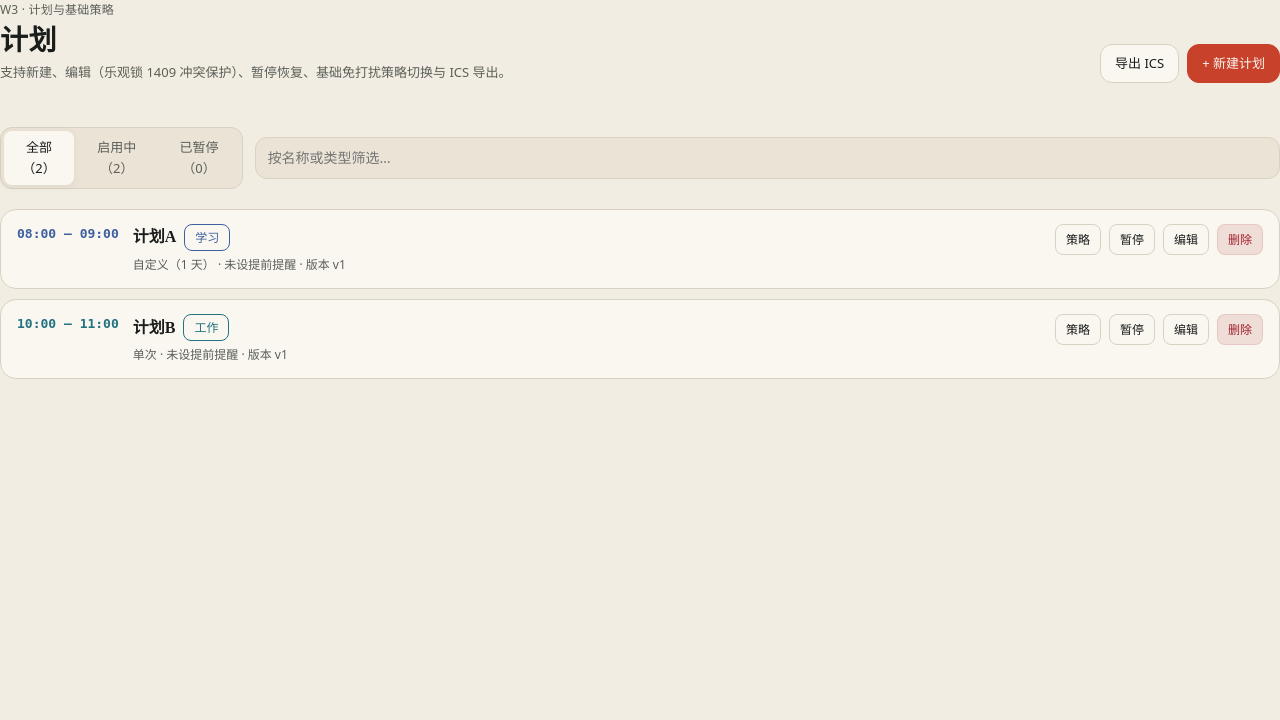
Test: Core views: XSS neutralization, 1409 conflict reload/merge, and B5 trust copy › isolates strategy modal per planId+requestSeq so delayed Plan A GET/1409 cannot pollute Plan B (R3)
Later steps or results of the test are not shown.
Click the button "策略" in the row of "学习" at (1078, 239), box [1055,224,1101,255]
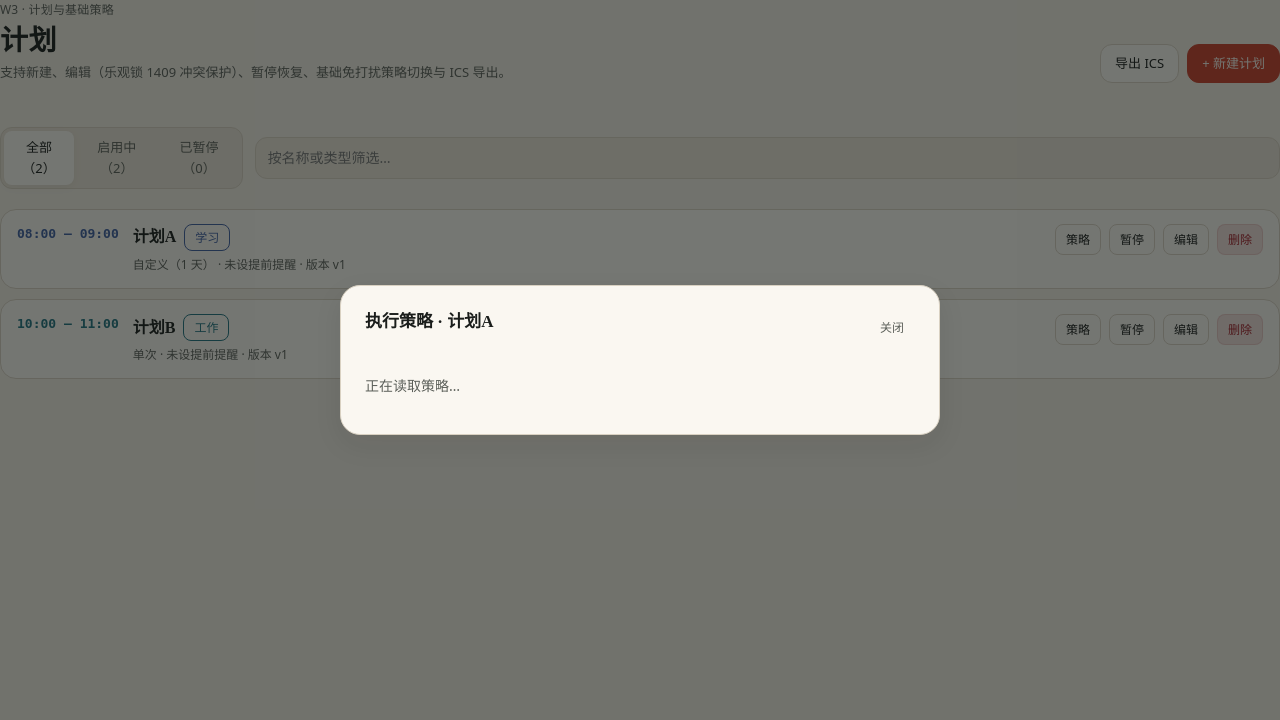
Click the button "关闭" at (892, 328), box [869,312,915,343]
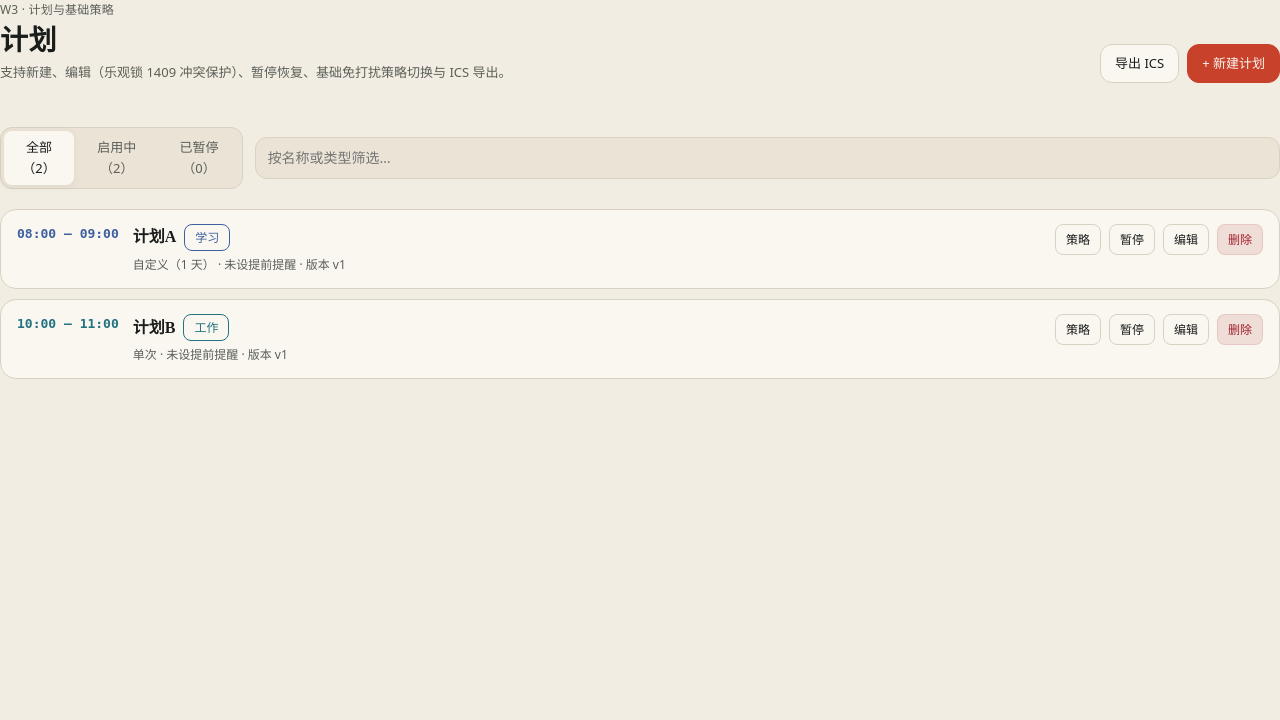
Click the button "策略" in the row of "工作" at (1078, 330), box [1055,314,1101,345]
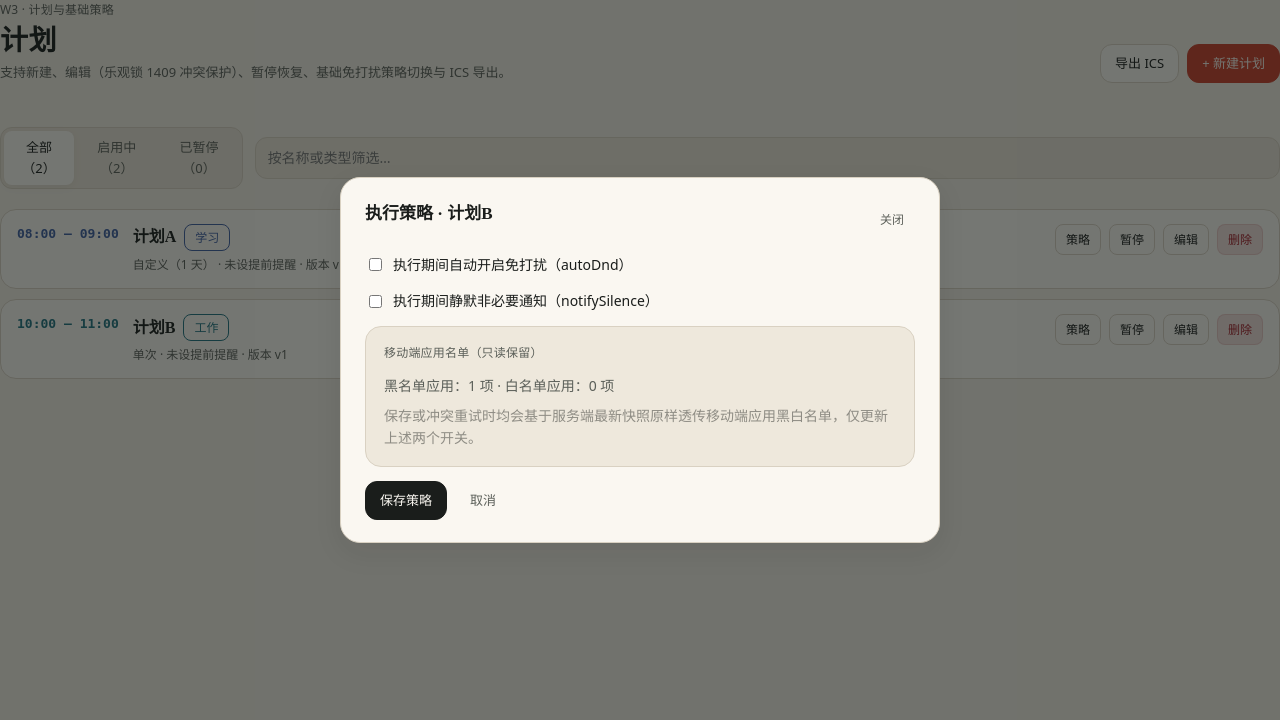
Expected: the text "执行策略 · 计划B" is shown, [365,200,492,228]
Expected: the text "黑名单应用：1 项" is shown, [384,376,614,395]
Click the checkbox labelled "执行期间自动开启免打扰（autoDnd）" at (376, 265), box [369,258,382,271]
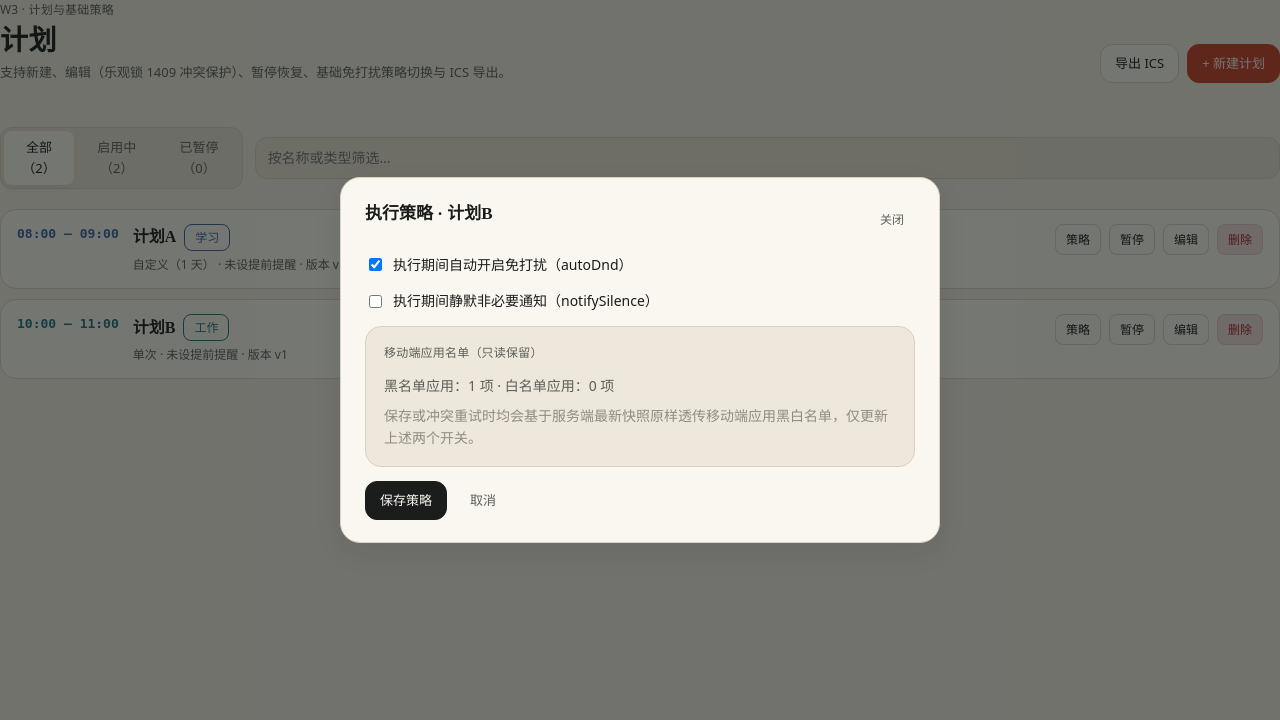
Click the button "保存策略" at (406, 500), box [365,481,447,520]
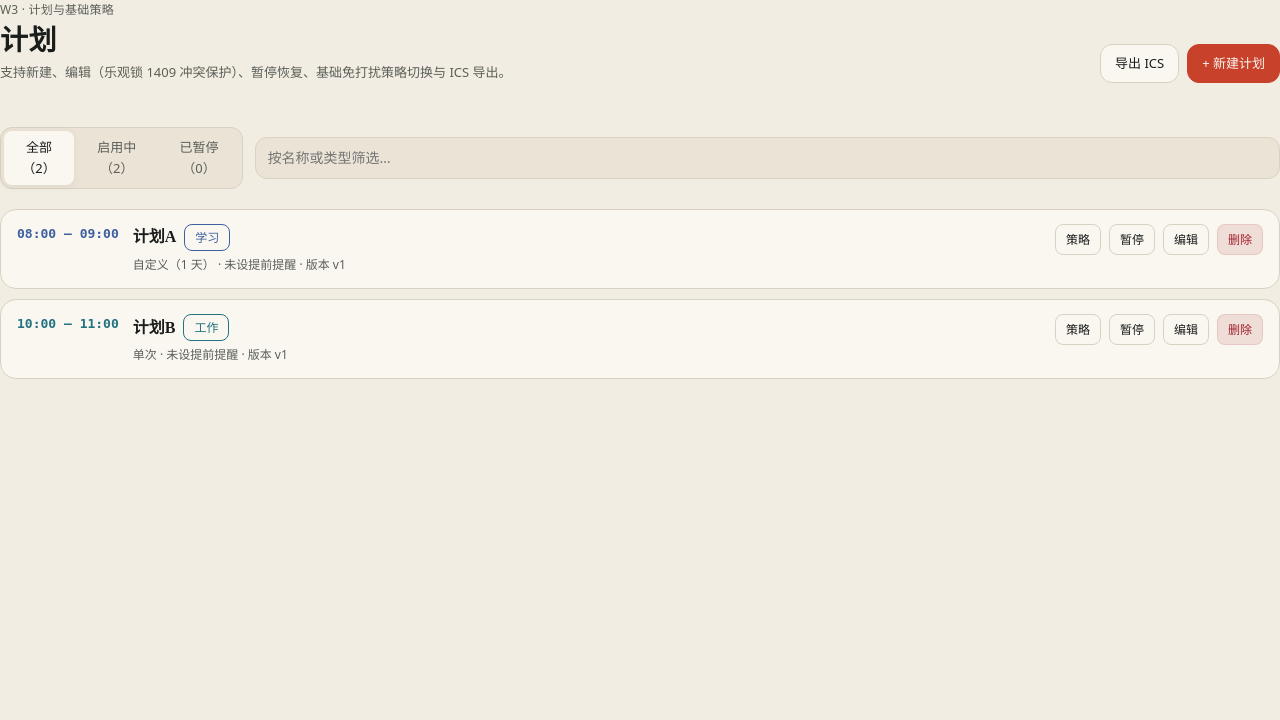
Click the button "编辑" in the row of "学习" at (1186, 239), box [1163,224,1209,255]
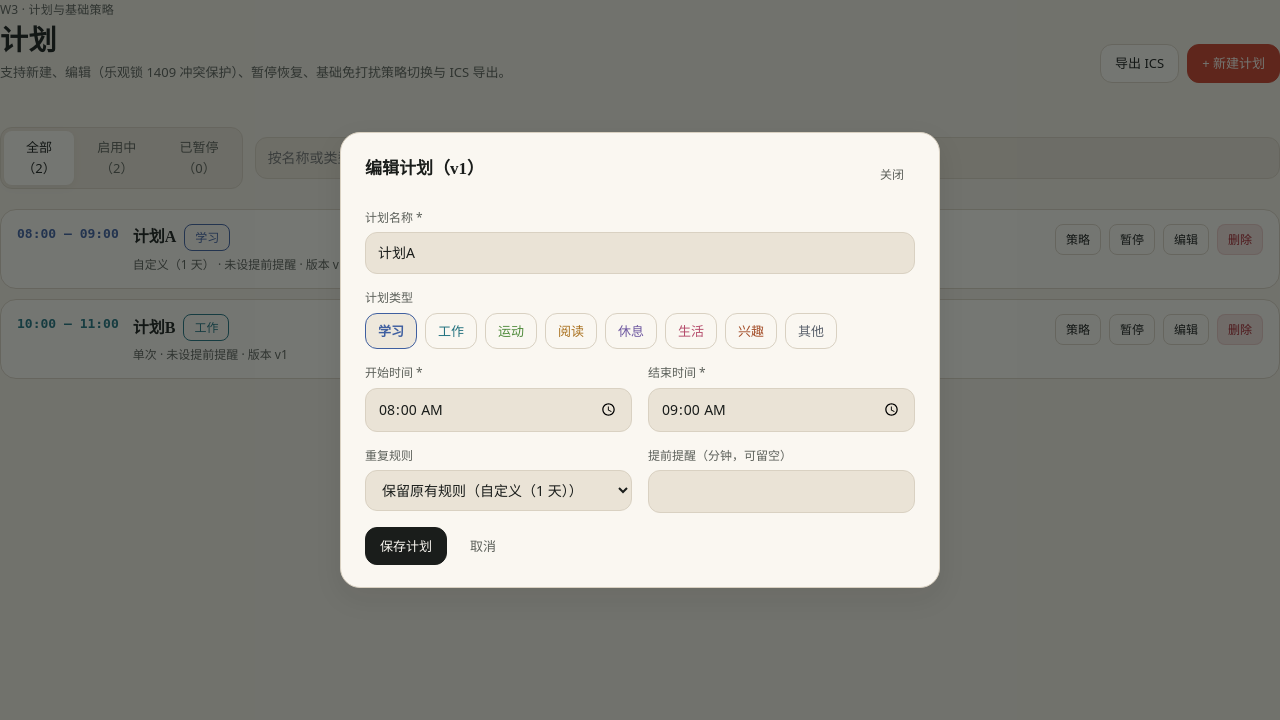
Expected: the dropdown labelled "重复规则" shows "保留原有规则（自定义（1 天））", [365,470,632,511]
